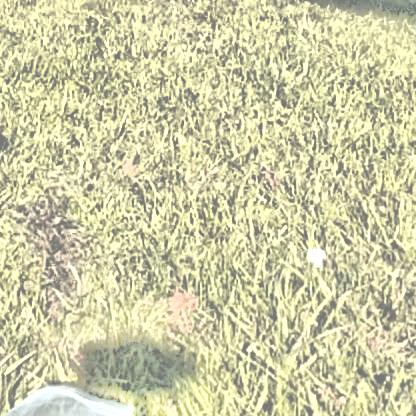golfball: (303, 245, 324, 264)
